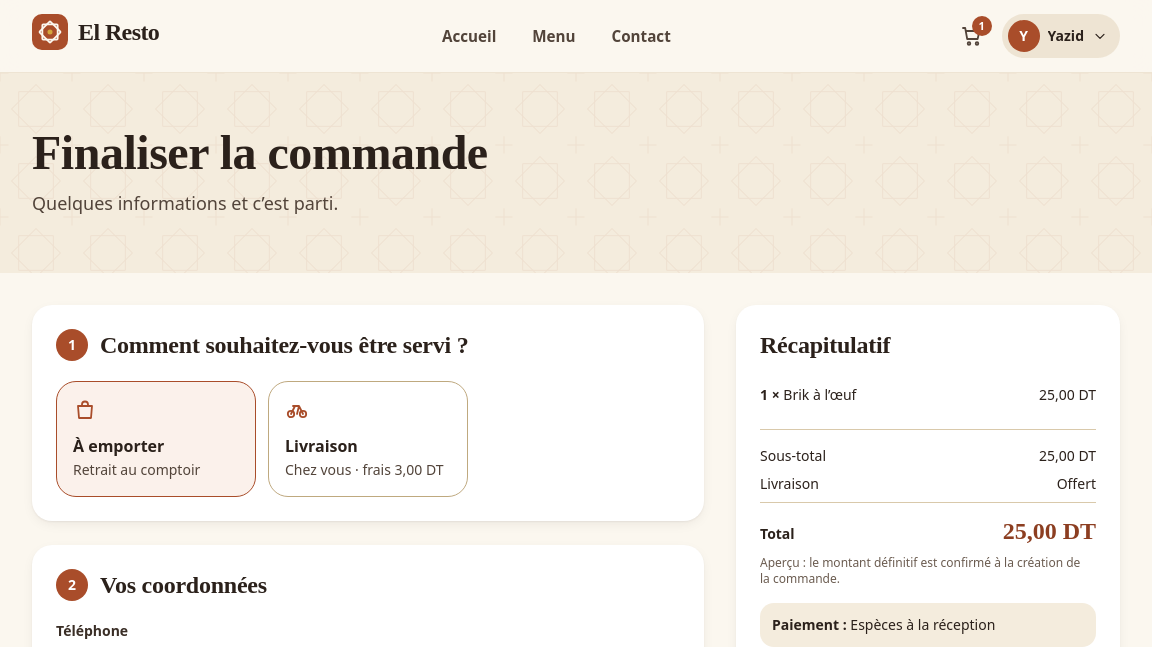
Test: formulaire de commande › livraison : n'envoie que les champs applicables, puis page de confirmation
Click the radio button labelled "Livraison Chez vous · frais 3,00 DT" at (368, 439), box 268,381 -> 468,497
(page scrolled)
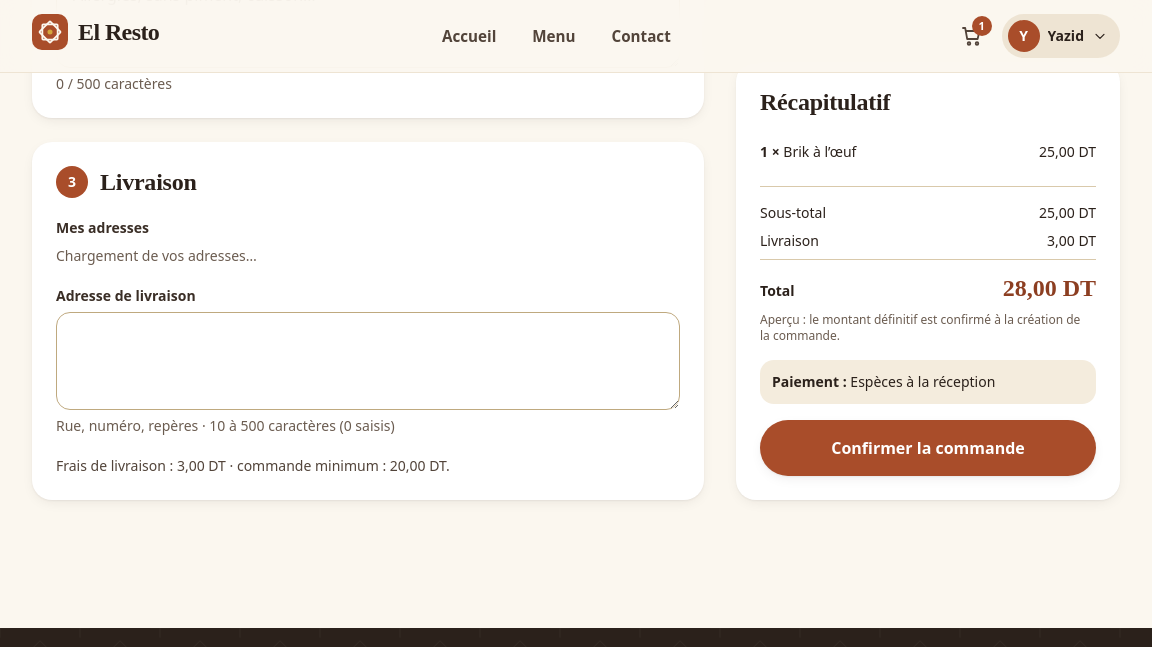
Type "12 rue de la Liberté, Tunis" into the text box labelled "Adresse de livraison" at (368, 361), box 56,312 -> 680,410
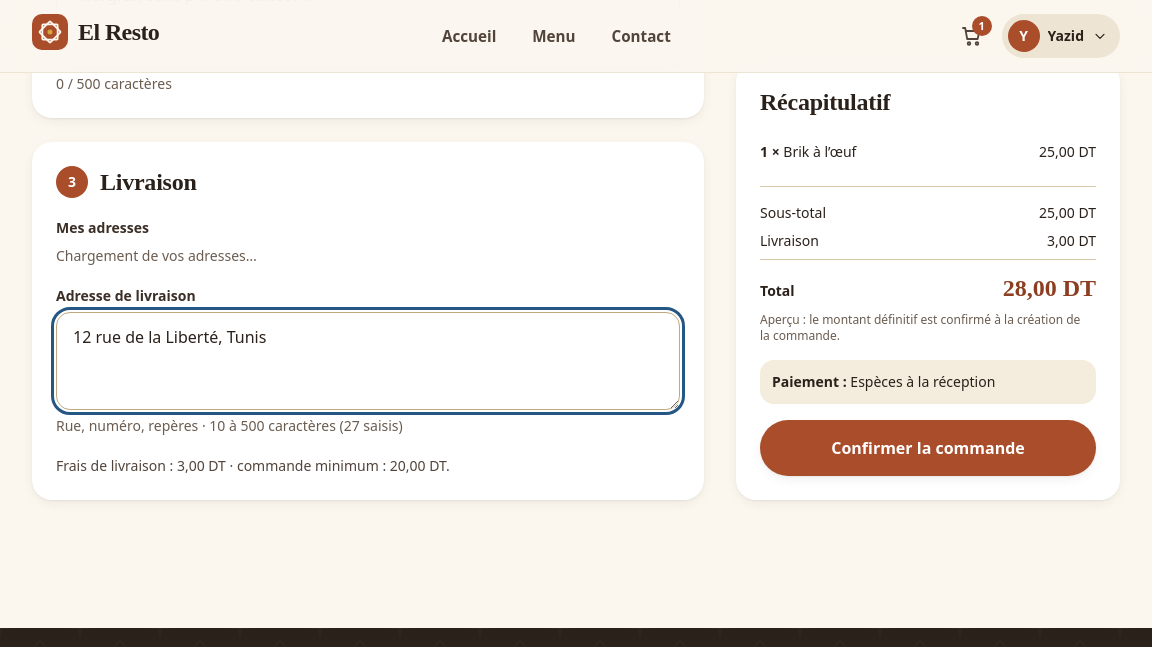
Click the button "Confirmer la commande" at (928, 448), box 760,420 -> 1096,476
(page scrolled)
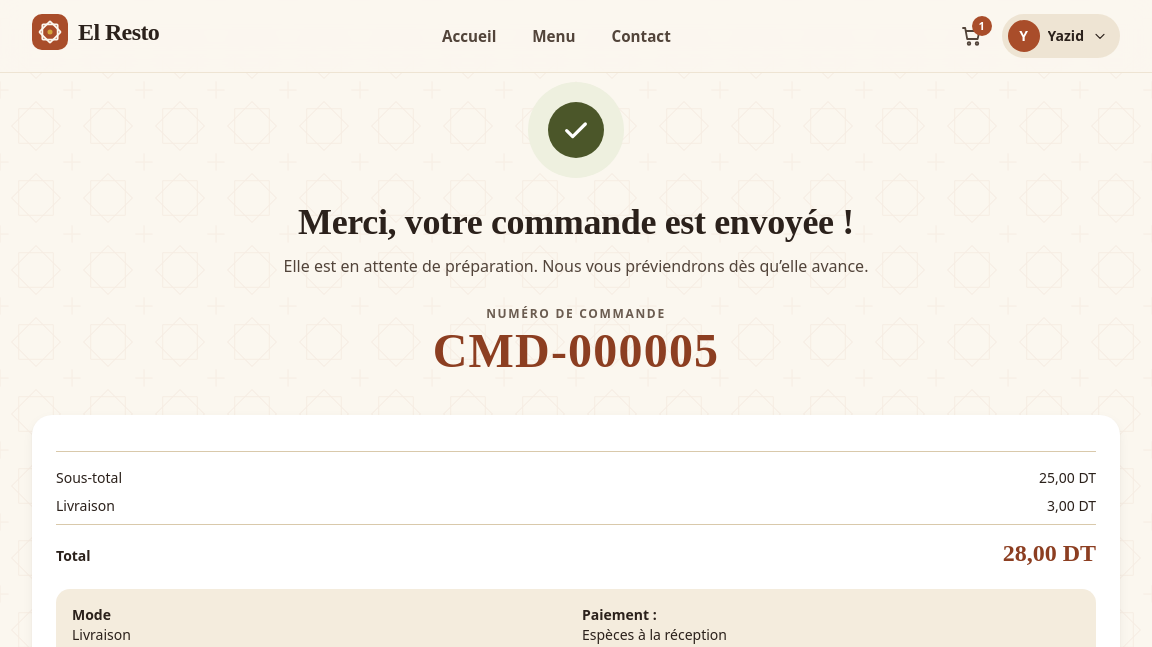
Result: the text "CMD-000005" is shown at 433,324 -> 719,377
